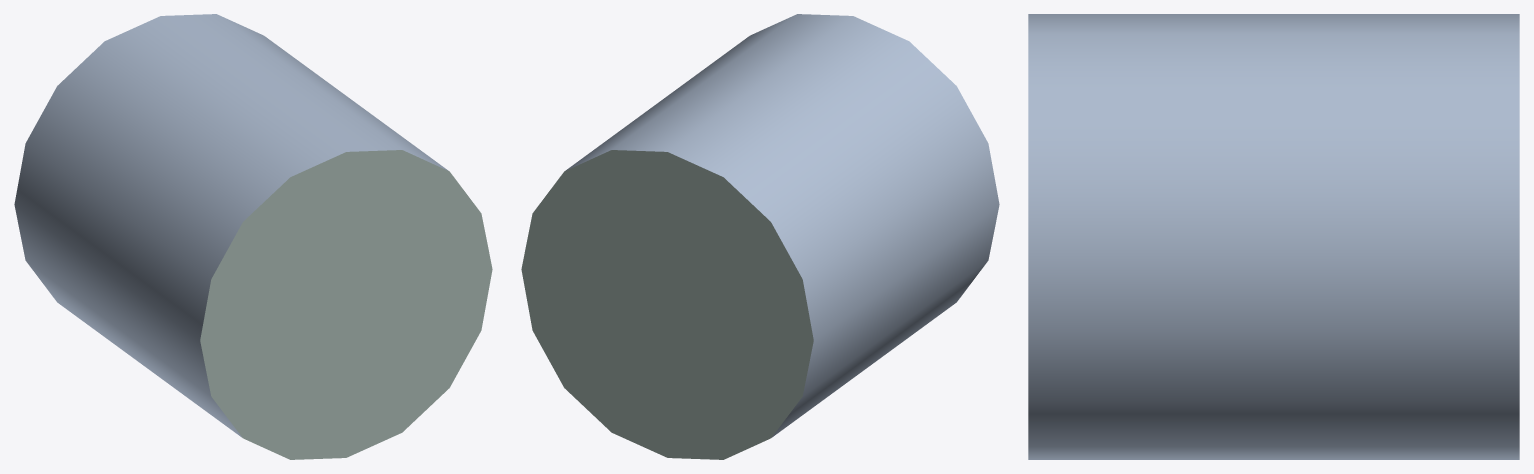
File: icub_neck_roll_link.glb
3 renders of one model, left to right at view 1: azimuth 30°, elevation 25°; view 2: azimuth 150°, elevation 25°; view 3: azimuth 270°, elevation 25°, orthographic. The views are drawn at different scales.
Parts seen in each view (by area): view 1: neck_2_mesh; view 2: neck_2_mesh; view 3: neck_2_mesh.
Boxes of the visible parts, x1,y1,x2,y2 form: neck_2_mesh: (14, 14, 492, 459); neck_2_mesh: (521, 14, 999, 459); neck_2_mesh: (1028, 14, 1519, 459).
Bounding box in the file's own units: 0.03 × 0.03 × 0.033.
